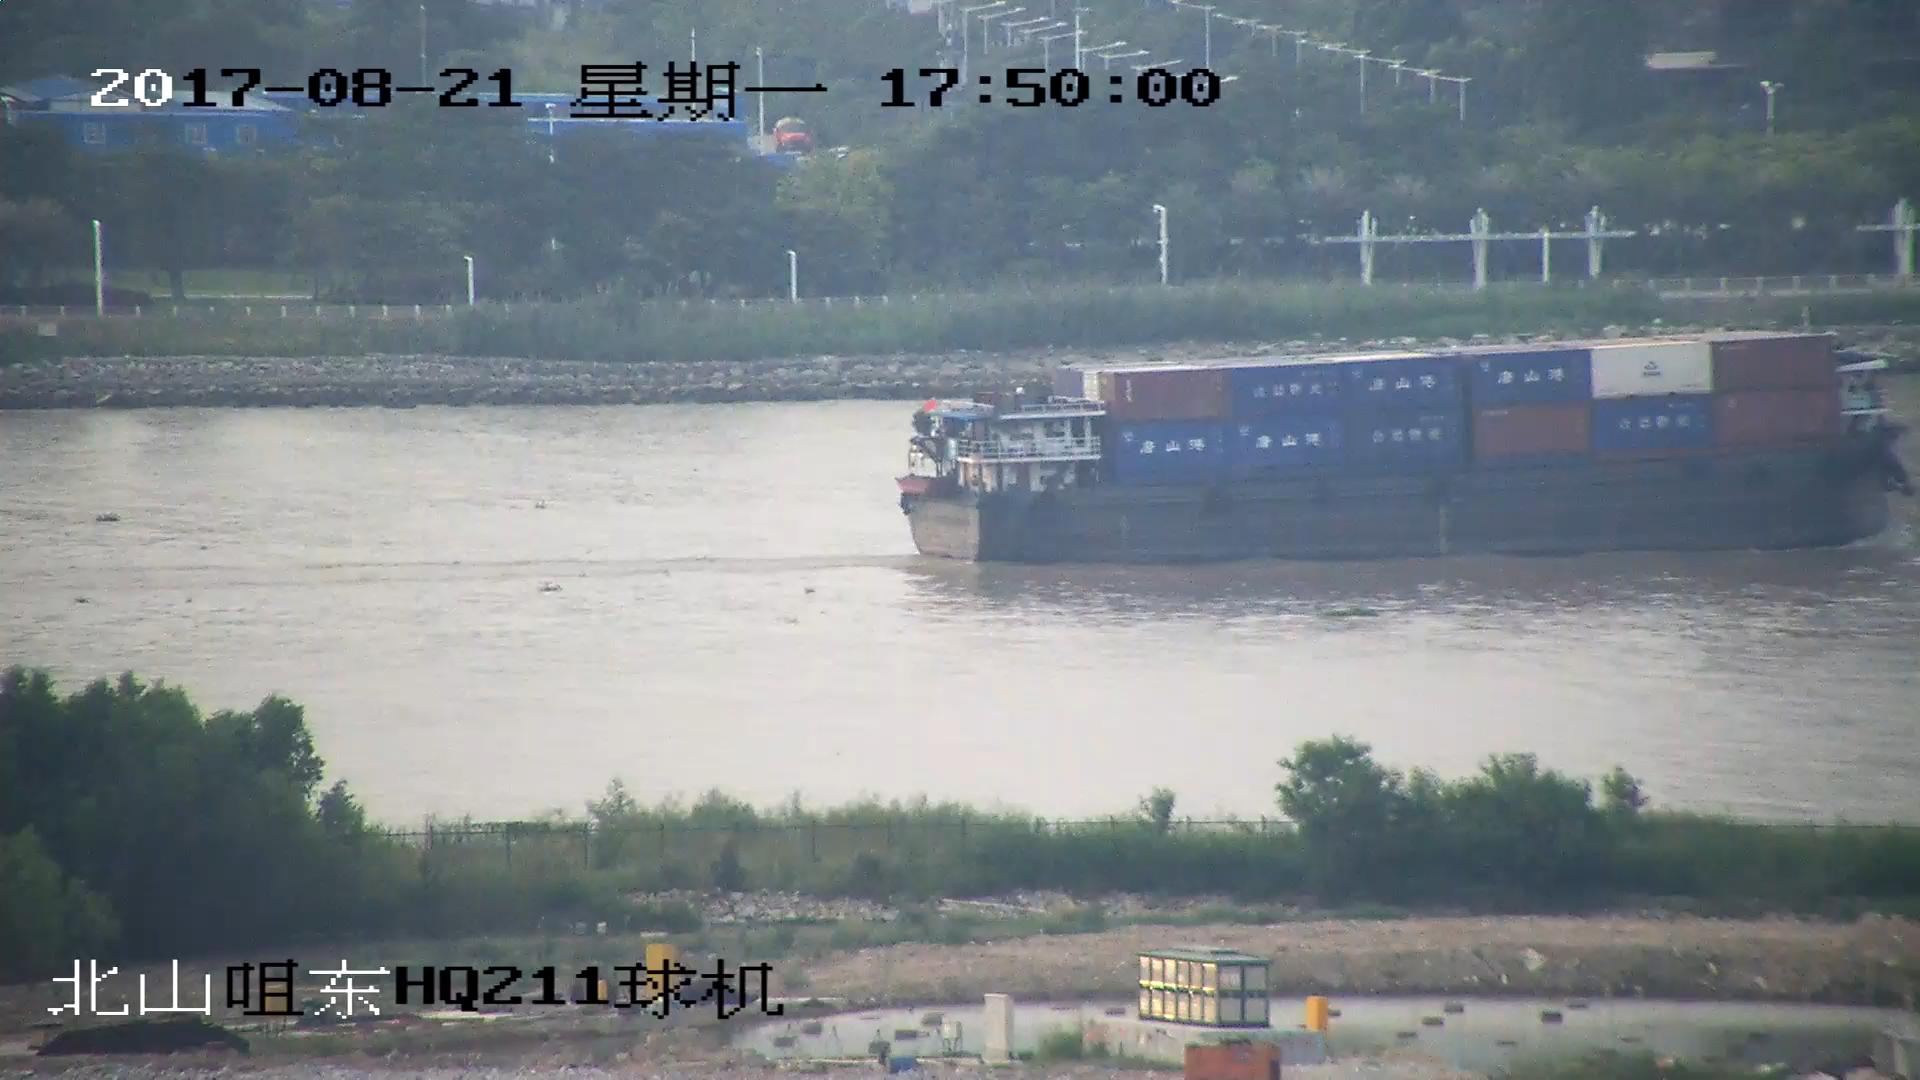container ship: (894, 333, 1907, 562)
